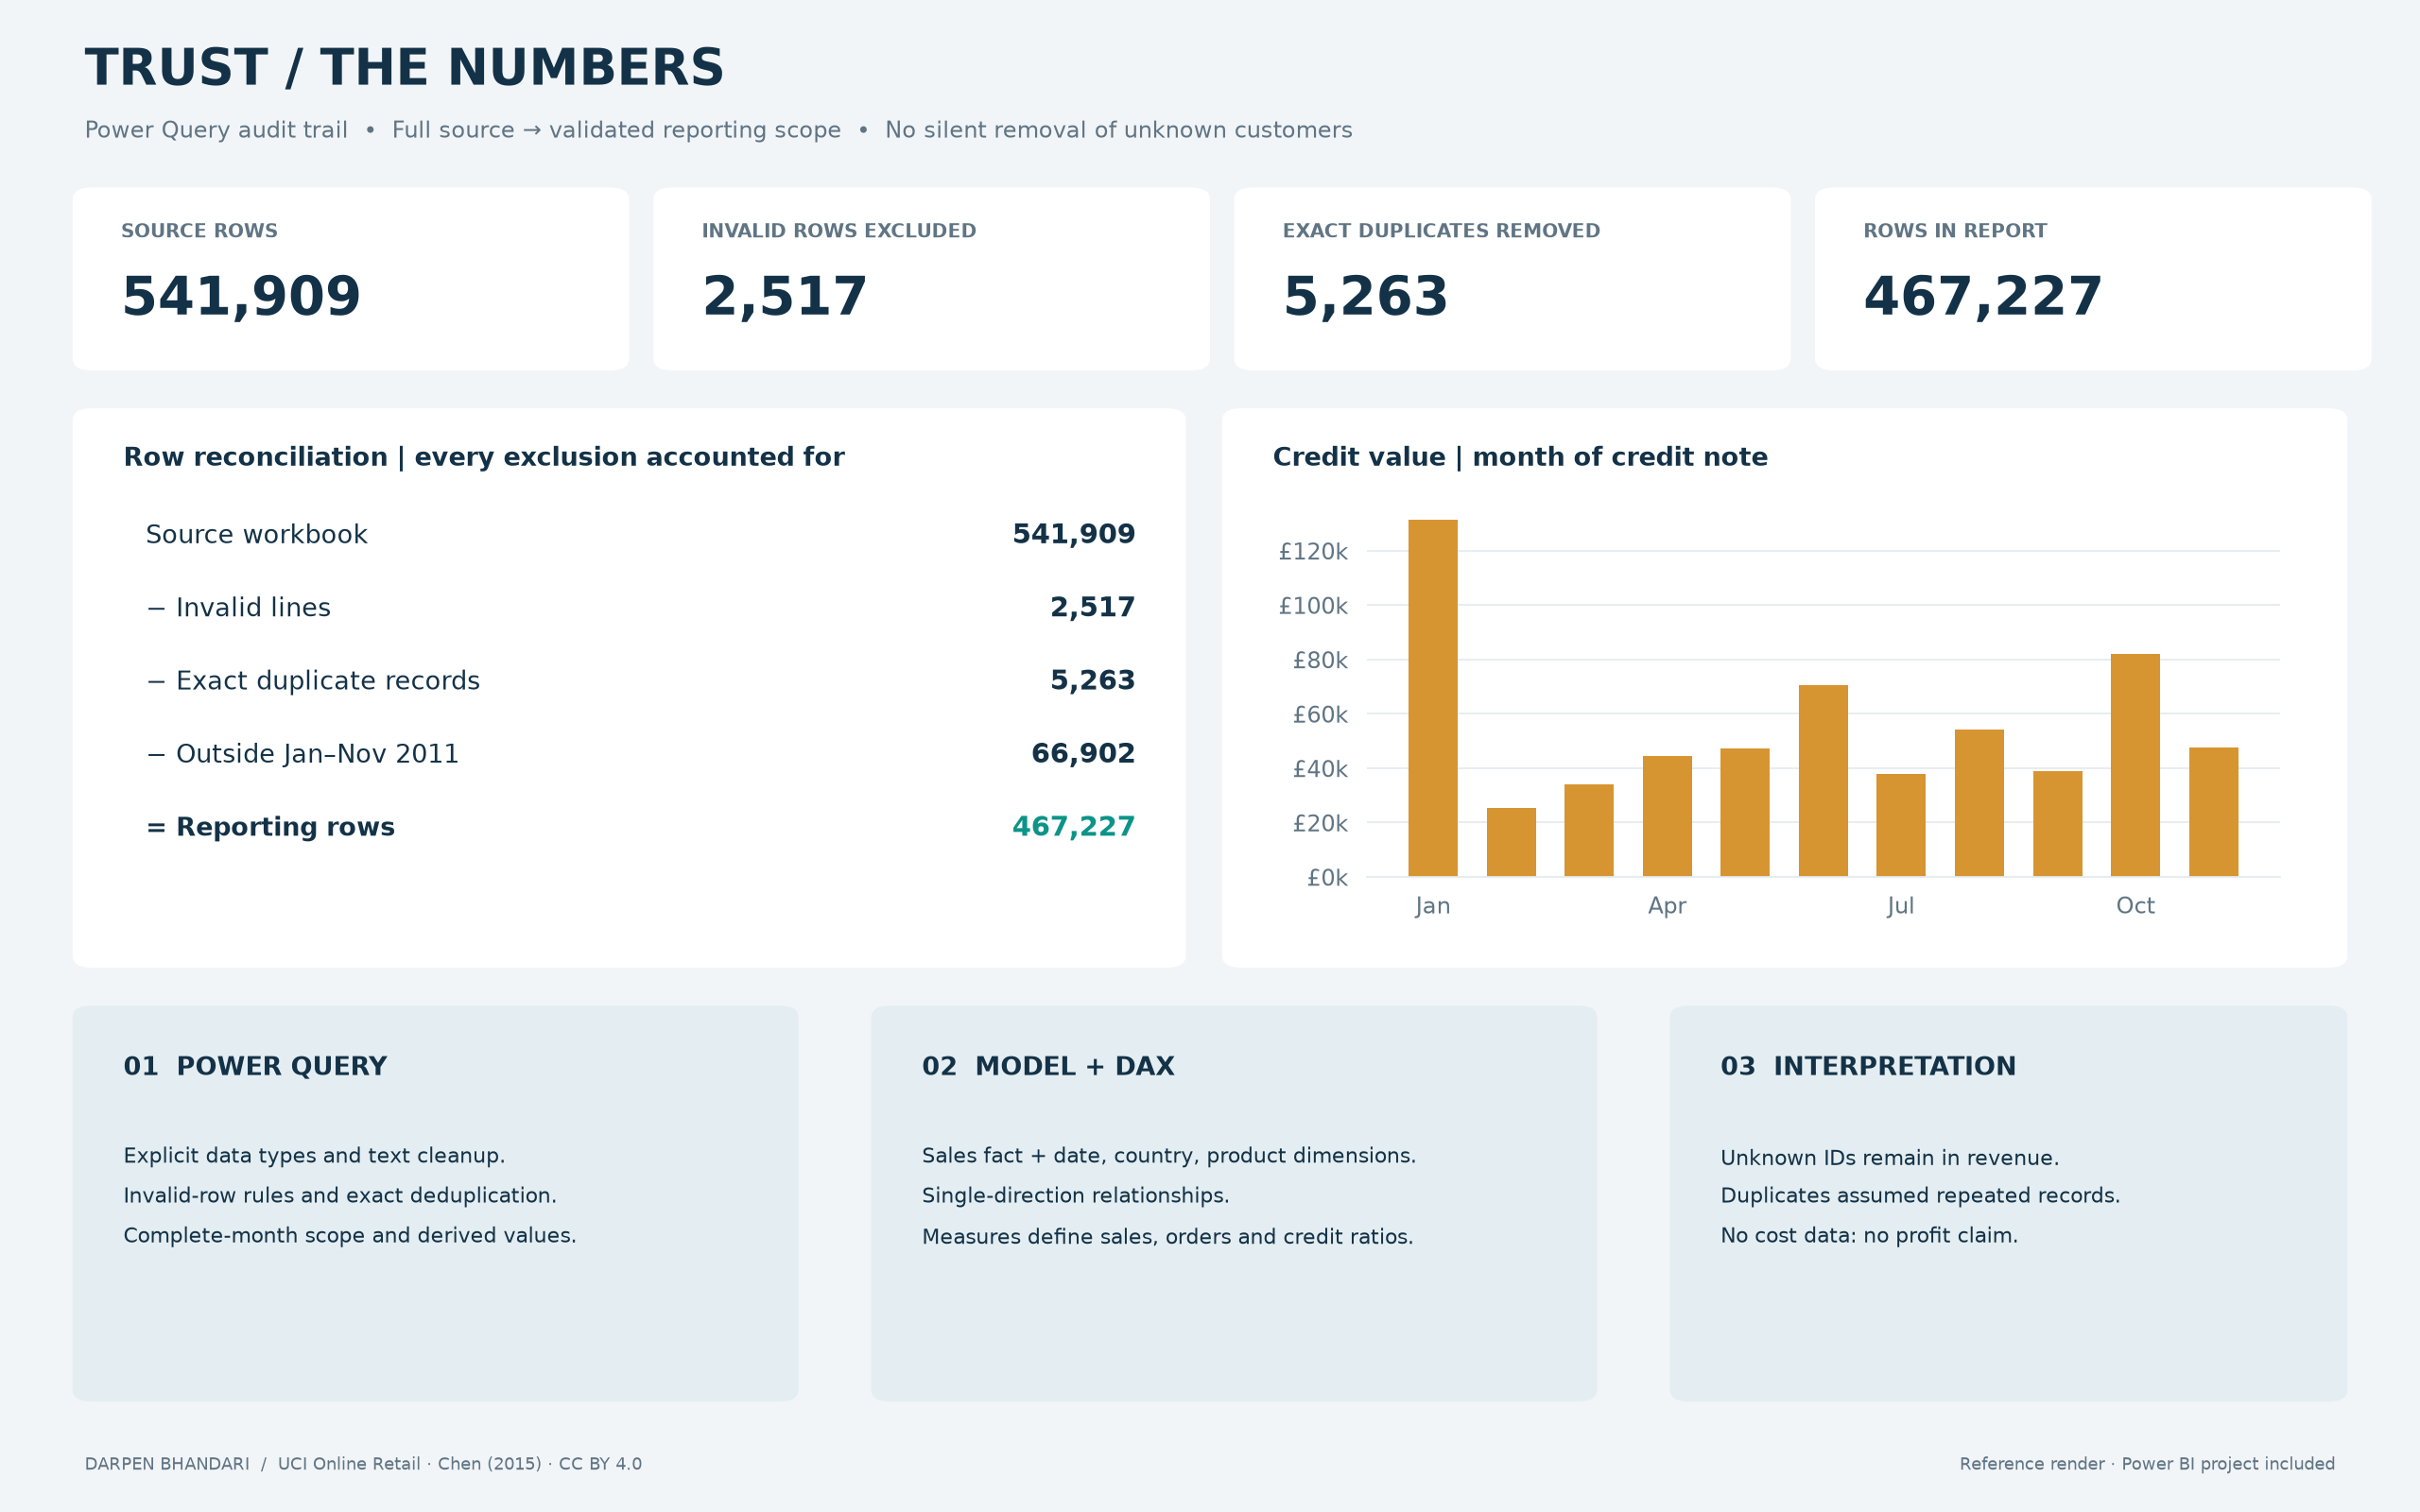

This screenshot's page, from the dashboard's own definition file:
{"tool":"powerbi","page":{"name":"02 · Data quality","canvas":[1440,900],"ordinal":1},"visuals":[{"type":"textbox","box":[32,22,1100,65],"z":4},{"type":"textbox","box":[32,70,1180,43],"z":5},{"type":"textbox","box":[32,850,1370,46],"z":6},{"type":"card","fields":{"Values":["FactSales.Source Rows Display"]},"box":[32,118,326,105],"z":22},{"type":"textbox","box":[44,123,302,40],"z":23},{"type":"card","fields":{"Values":["FactSales.Invalid Rows Display"]},"box":[382,118,326,105],"z":24},{"type":"textbox","box":[394,123,302,40],"z":25},{"type":"card","fields":{"Values":["FactSales.Duplicates Removed Display"]},"box":[732,118,326,105],"z":26},{"type":"textbox","box":[744,123,302,40],"z":27},{"type":"card","fields":{"Values":["FactSales.Rows Loaded Display"]},"box":[1082,118,326,105],"z":28},{"type":"textbox","box":[1094,123,302,40],"z":29},{"type":"tableEx","title":"Power Query | row reconciliation","fields":{"Values":["QualityAudit.Step","QualityAudit.Rows"]},"box":[32,248,690,330],"z":30},{"type":"clusteredColumnChart","title":"Credit value by month","fields":{"Category":["DimDate.Month"],"Y":["FactSales.Credit Value"]},"box":[746,248,662,330],"z":31},{"type":"card","fields":{"Values":["FactSales.Identified Sales Share Display"]},"box":[32,610,326,105],"z":32},{"type":"textbox","box":[44,615,302,40],"z":33},{"type":"textbox","box":[382,610,670,210],"z":34},{"type":"textbox","box":[1076,610,332,210],"z":35}]}

Visuals, with their boxes in screenshot pixels (x1, y1, x2, y2), scaled from the page's 1440x900 canvas onto the 2420x1512 screenshot:
textbox: rect(54, 37, 1902, 146)
textbox: rect(54, 117, 2037, 190)
textbox: rect(54, 1428, 2356, 1505)
card - FactSales.Source Rows Display: rect(54, 198, 601, 374)
textbox: rect(74, 207, 581, 274)
card - FactSales.Invalid Rows Display: rect(642, 198, 1190, 374)
textbox: rect(662, 207, 1169, 274)
card - FactSales.Duplicates Removed Display: rect(1230, 198, 1778, 374)
textbox: rect(1251, 207, 1758, 274)
card - FactSales.Rows Loaded Display: rect(1819, 198, 2366, 374)
textbox: rect(1839, 207, 2346, 274)
"Power Query | row reconciliation" tableEx: rect(54, 417, 1214, 971)
"Credit value by month" clusteredColumnChart: rect(1253, 417, 2366, 971)
card - FactSales.Identified Sales Share Display: rect(54, 1024, 601, 1201)
textbox: rect(74, 1033, 581, 1100)
textbox: rect(642, 1024, 1768, 1378)
textbox: rect(1808, 1024, 2366, 1378)
